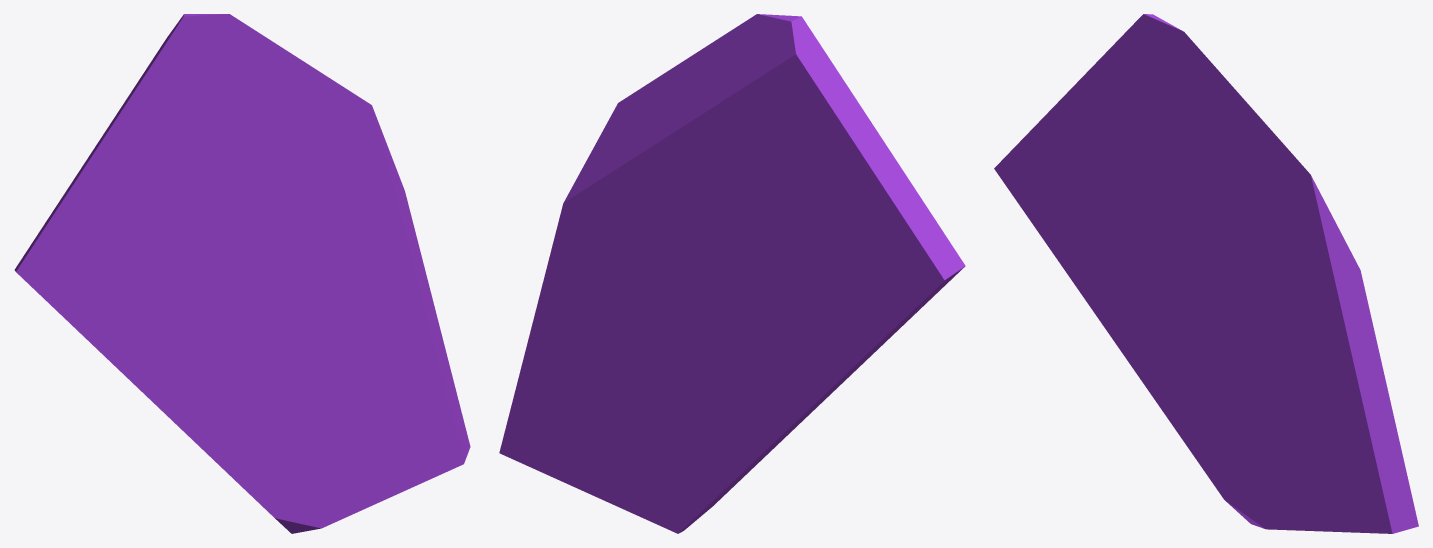
File: Glass_83_3_6_chunks.fbx
The picture shows the model from 3 angles, left to right: view 1: azimuth 30°, elevation 25°; view 2: azimuth 150°, elevation 25°; view 3: azimuth 330°, elevation 25°; orthographic projection. The views are drawn at different scales.
Parts seen in each view (by area): view 1: Glass_83_3_6_3, Glass_83_3_6_1, Glass_83_3_6_0, Glass_83_3_6_2; view 2: Glass_83_3_6_3, Glass_83_3_6_1, Glass_83_3_6_0, Glass_83_3_6_2; view 3: Glass_83_3_6_3, Glass_83_3_6_1, Glass_83_3_6_0, Glass_83_3_6_2.
Part boxes in pixels (bbox=[...]): Glass_83_3_6_3: bbox=[15, 14, 367, 280]; Glass_83_3_6_1: bbox=[276, 206, 470, 533]; Glass_83_3_6_0: bbox=[14, 268, 298, 530]; Glass_83_3_6_2: bbox=[261, 103, 412, 303]; Glass_83_3_6_3: bbox=[622, 14, 963, 291]; Glass_83_3_6_1: bbox=[499, 217, 715, 533]; Glass_83_3_6_0: bbox=[689, 262, 965, 525]; Glass_83_3_6_2: bbox=[560, 100, 672, 249]; Glass_83_3_6_3: bbox=[996, 14, 1306, 282]; Glass_83_3_6_1: bbox=[1225, 284, 1418, 533]; Glass_83_3_6_0: bbox=[994, 166, 1245, 519]; Glass_83_3_6_2: bbox=[1212, 171, 1363, 333].
Size of the model in its own units: 634 by 715 by 27.2.
